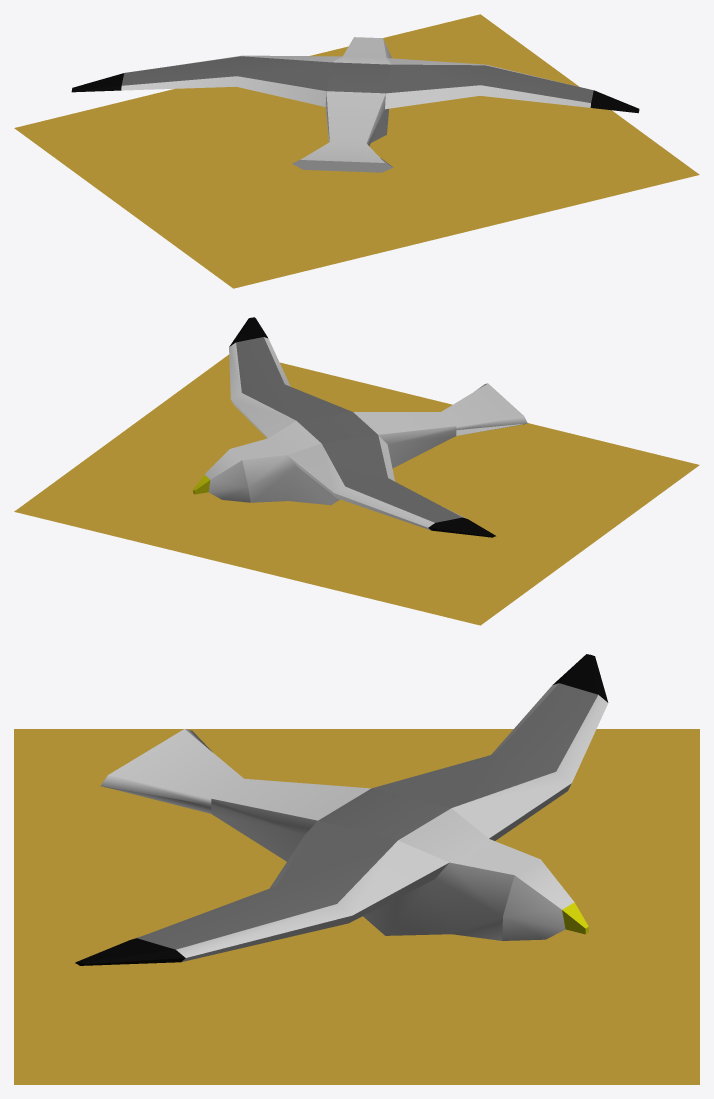
File: Bird.dae
3 views of the same model, one above another, from view 1: azimuth 30°, elevation 25°; view 2: azimuth 150°, elevation 25°; view 3: azimuth 270°, elevation 25° (orthographic). The views are drawn at different scales.
Parts seen in each view (by area): view 1: pPlane3, pCube7; view 2: pPlane3, pCube7; view 3: pPlane3, pCube7.
Part boxes in pixels (box(x1,y1,x2,y2)): pPlane3: box(14, 14, 699, 288); pCube7: box(71, 37, 639, 172); pPlane3: box(14, 354, 699, 625); pCube7: box(193, 317, 527, 537); pPlane3: box(14, 729, 699, 1084); pCube7: box(75, 654, 608, 965).
Bounding box in the file's own units: 4.8 × 0.6467 × 3.91.
